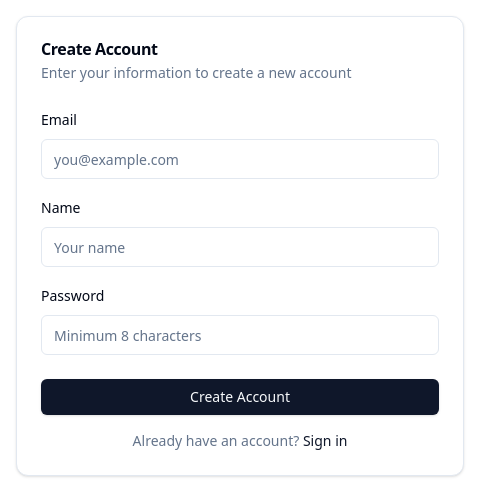
Test case: RegisterPage - form interactions › form submission › should show loading state during submission
In the field with placeholder "you@example.com": (240,159) 41,139 -> 439,179, type "test@example.com"
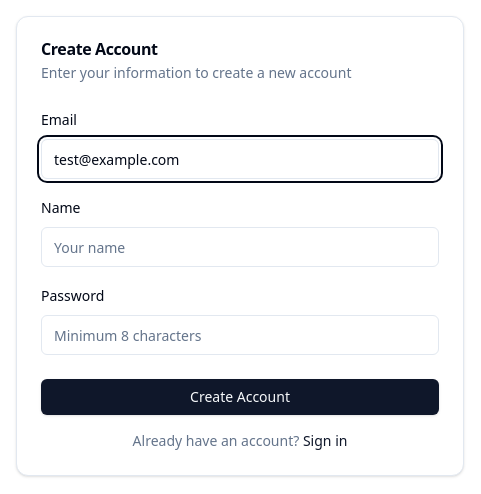
In the field with placeholder "Your name": (240,247) 41,227 -> 439,267, type "Test User"
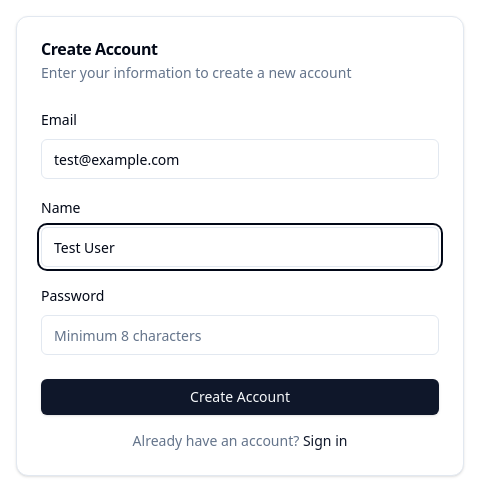
In the password field with placeholder "Minimum 8 characters": (240,335) 41,315 -> 439,355, type "Password123!"
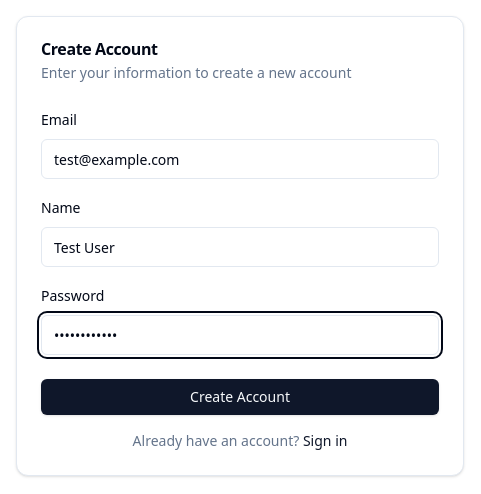
Click the submit button: (240,397) 41,379 -> 439,415
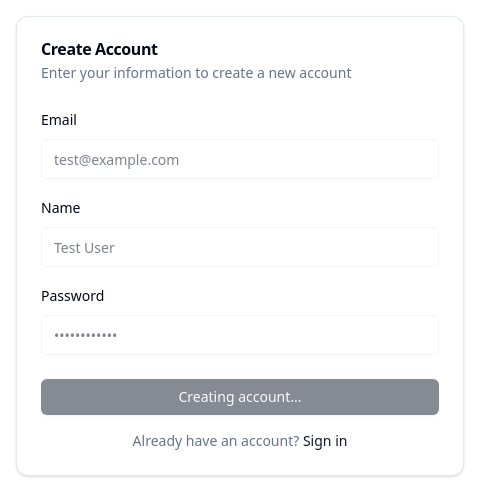
Check: the submit button shows "Creating account", box 41,379 -> 439,415
